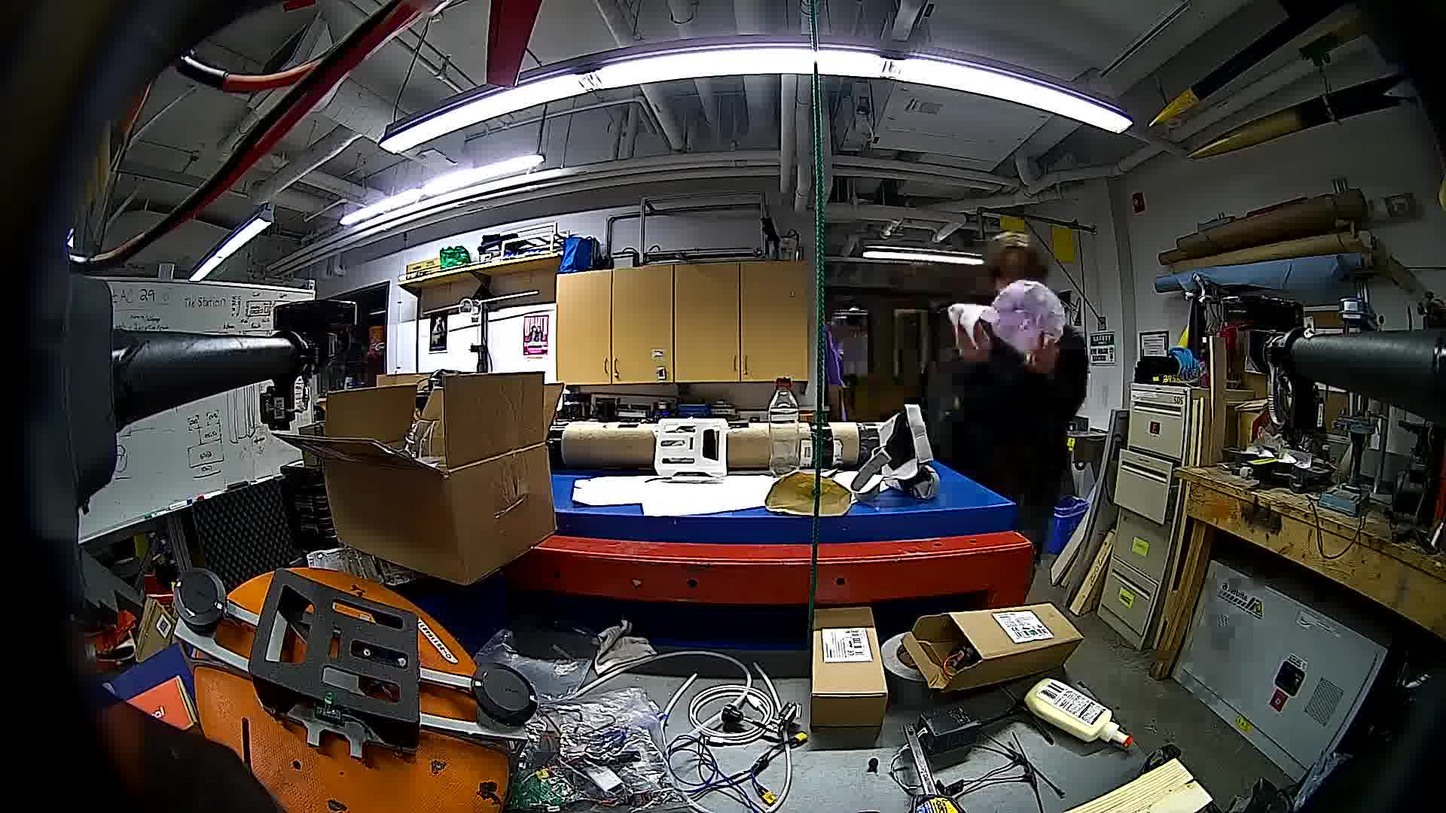Target: (988, 275, 1070, 361)
